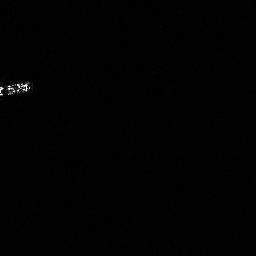ship: (1, 78, 34, 98)
